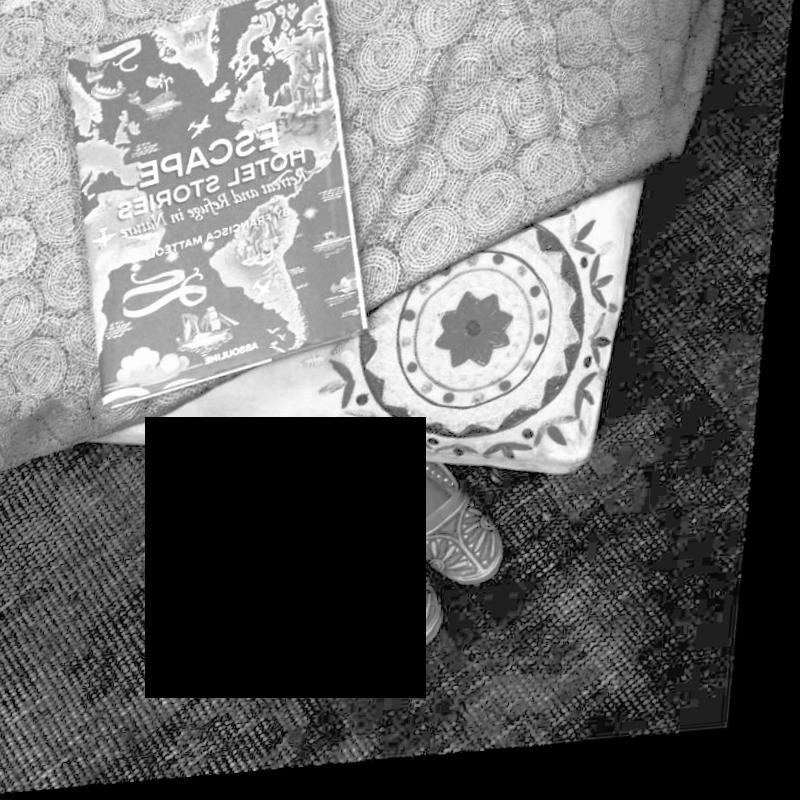pillow: (0, 0, 724, 518)
